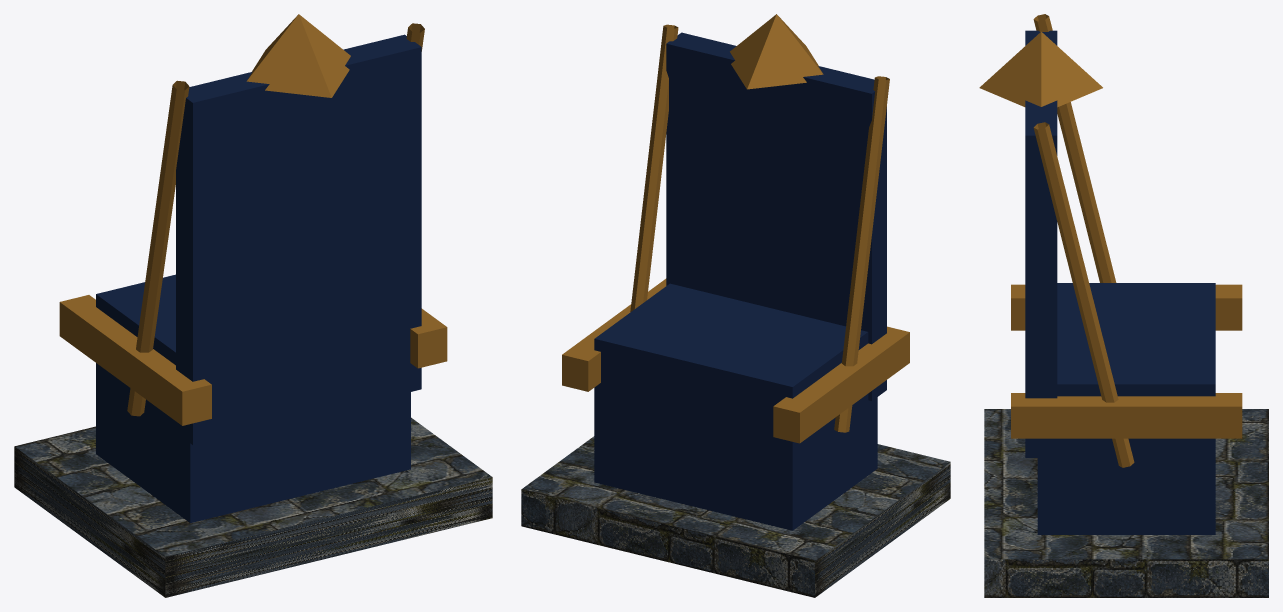
The model's file is C22_Trono_SoNao.obj.
3 views of the same model, side by side, from view 1: azimuth 30°, elevation 25°; view 2: azimuth 150°, elevation 25°; view 3: azimuth 270°, elevation 25° (orthographic). The views are drawn at different scales.
Visible parts, largest first — view 1: C22_Trono_SoNao; view 2: C22_Trono_SoNao; view 3: C22_Trono_SoNao.
Boxes of the visible parts, x1,y1,x2,y2 form: C22_Trono_SoNao: (14,14,492,597); C22_Trono_SoNao: (521,14,950,597); C22_Trono_SoNao: (979,14,1268,597).
Size of the model in its own units: 2 by 3.05 by 1.63.
3 materials, 1 textured.
